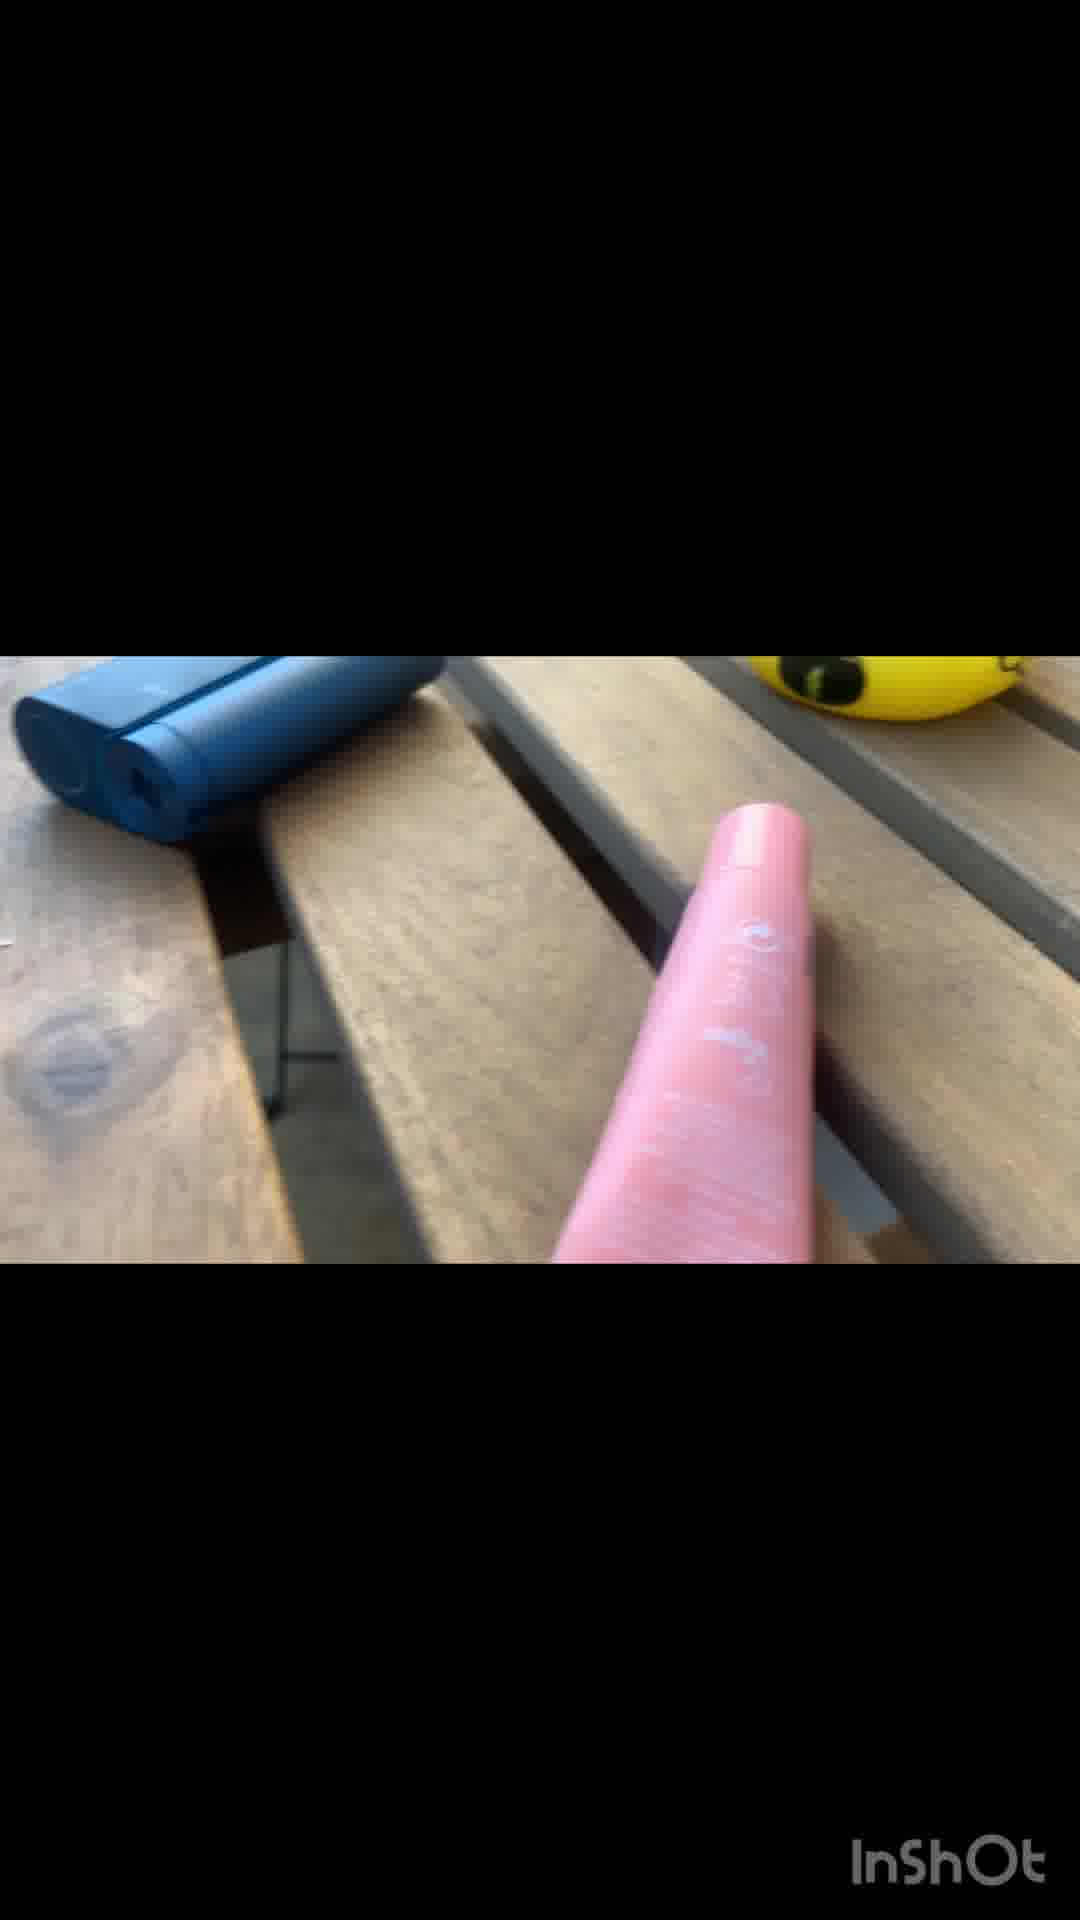duck: (695, 649, 1031, 708)
glo: (21, 641, 451, 828)
lip balm: (549, 777, 839, 1269)
